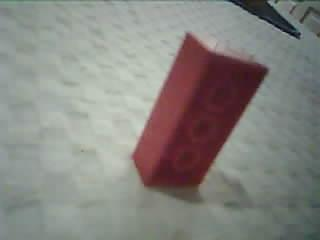lego: (130, 32, 269, 188)
